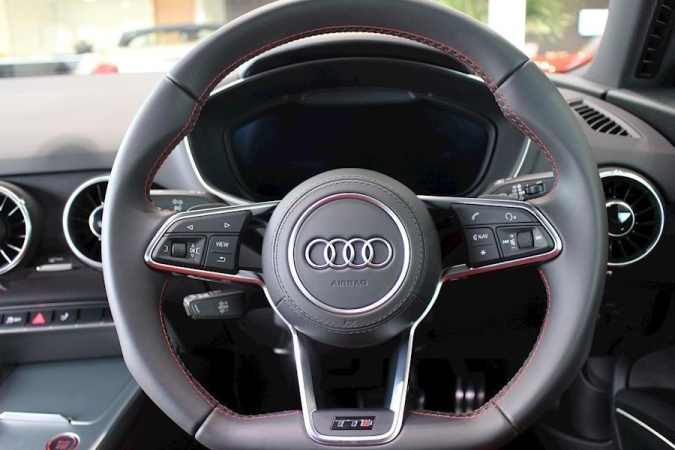audi: (302, 233, 395, 276)
